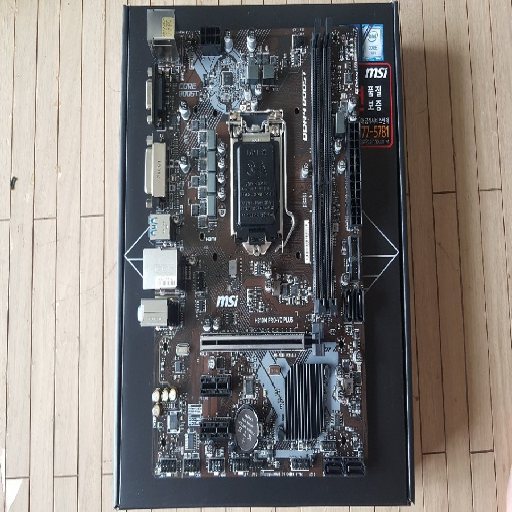CPU: (228, 108, 289, 251)
GPU: (198, 324, 325, 359)
MOTHERBOARD: (118, 3, 411, 505)
RAM: (307, 17, 340, 315)
